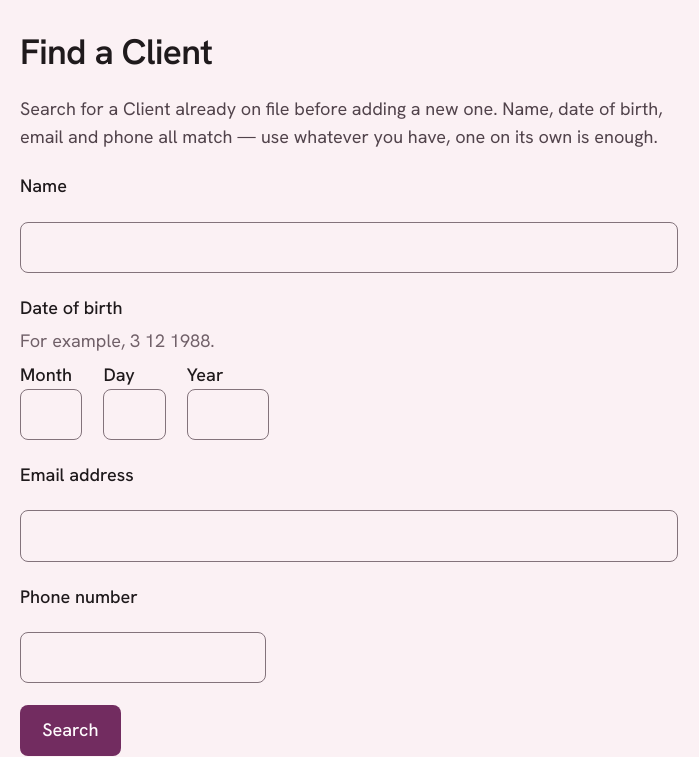
it: the search that fronts intake (#498) › asks whether none of several matches is the right Client
Type "Ada" into the field labelled "Name". click: (349, 247)
box: 20,222 -> 678,273
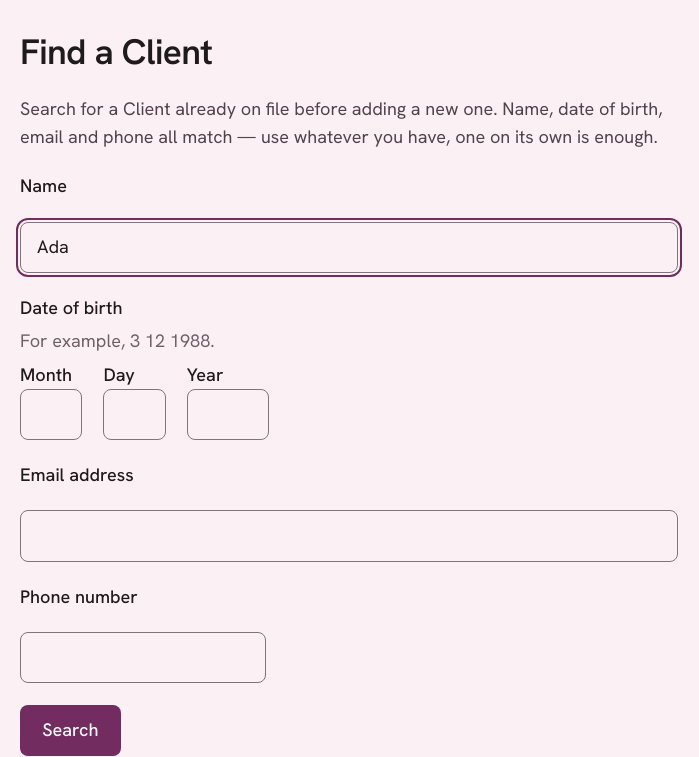
Click the button "Search". click: (70, 730)
box: 20,705 -> 121,756
(page scrolled)
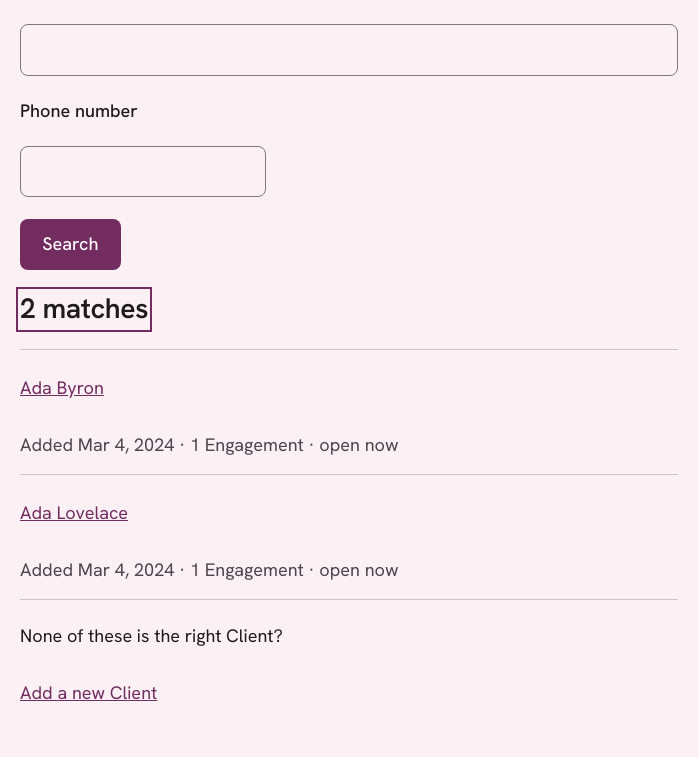
Check: the link "Add a new Client" is shown, box 20,681 -> 157,704
